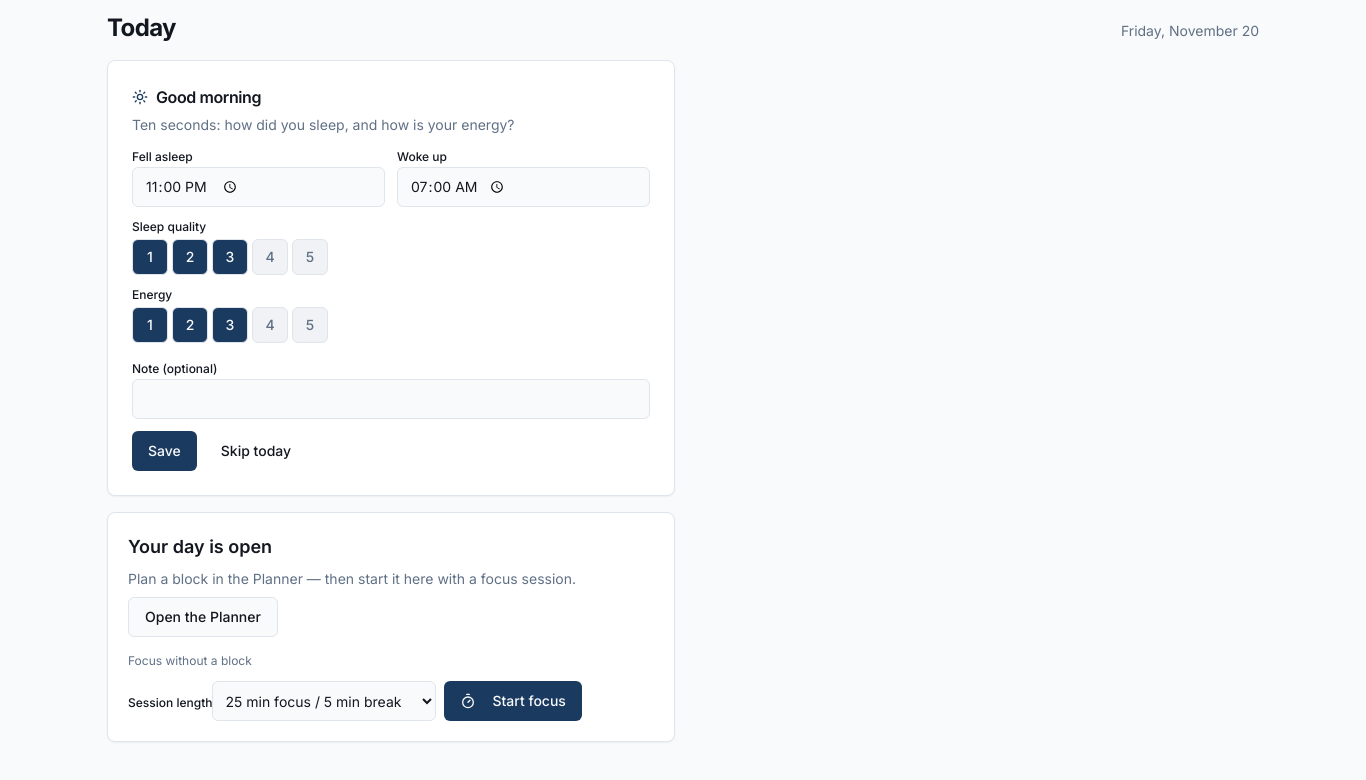
Today › asks for the morning check-in and sends the chosen values
The image size is (1366, 780).
Expected: the text "Good morning" is shown, left=132, top=87, right=261, bottom=107
Expected: the time field labelled "Fell asleep" holds "23:00", left=132, top=167, right=385, bottom=207
Click the radio button named "Energy: 4 of 5" at (270,325), box left=252, top=307, right=288, bottom=343
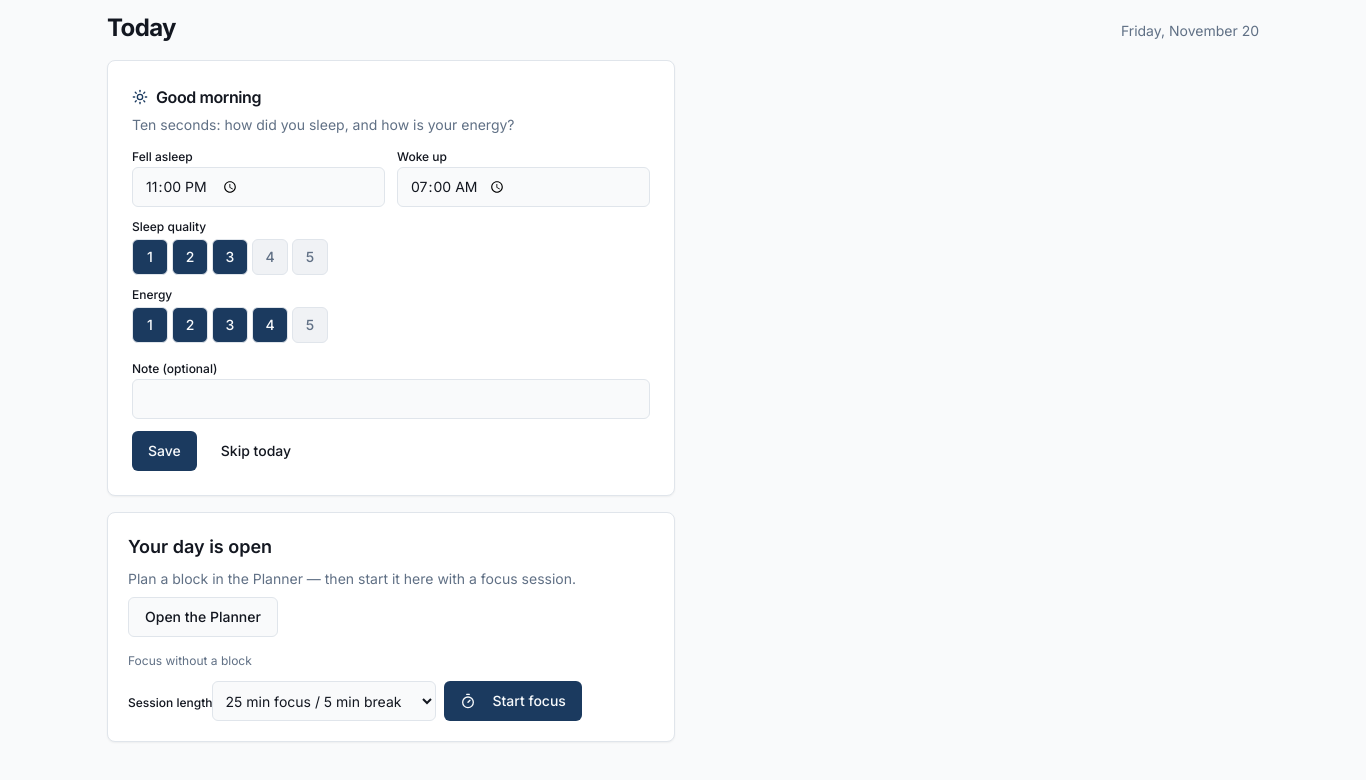
Click the button "Save" at (164,451), box left=132, top=431, right=197, bottom=471
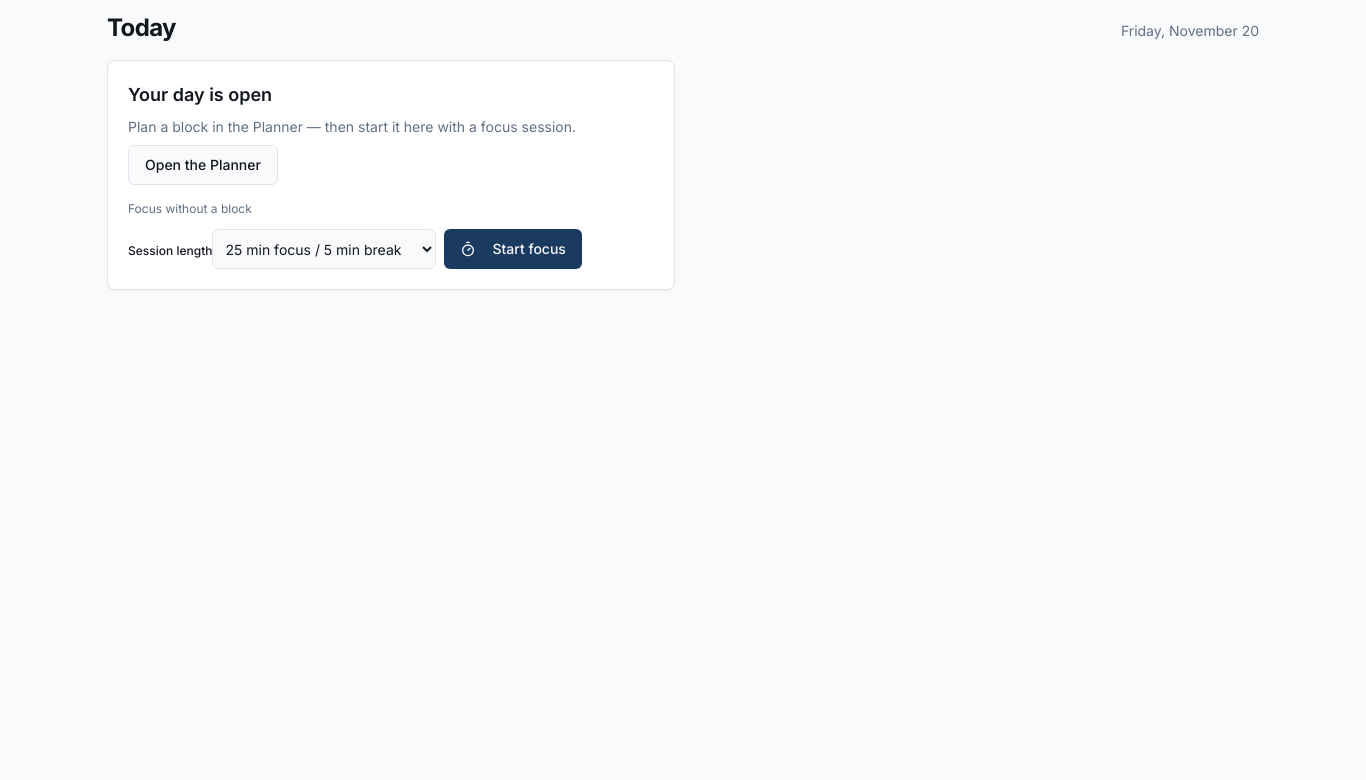
Expected: the text "Good morning" is gone
